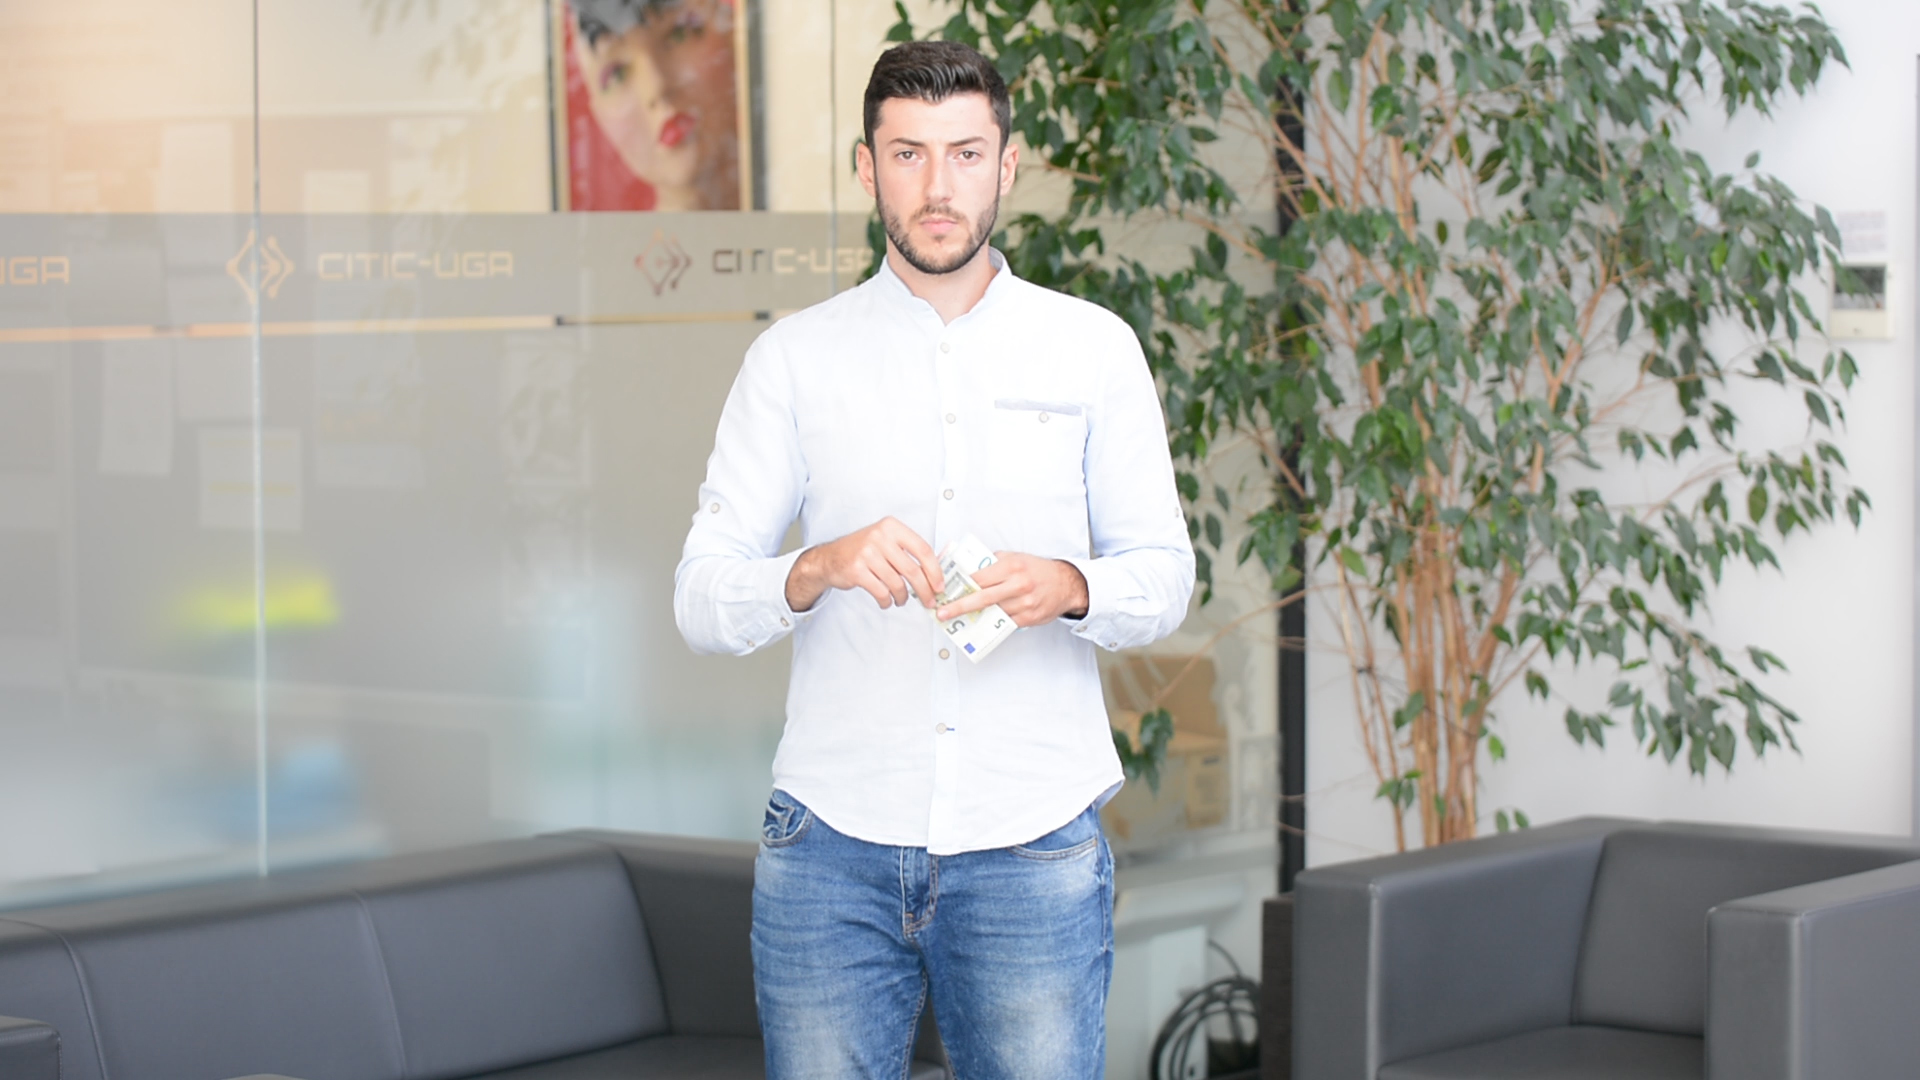billete: (910, 527, 1021, 667)
